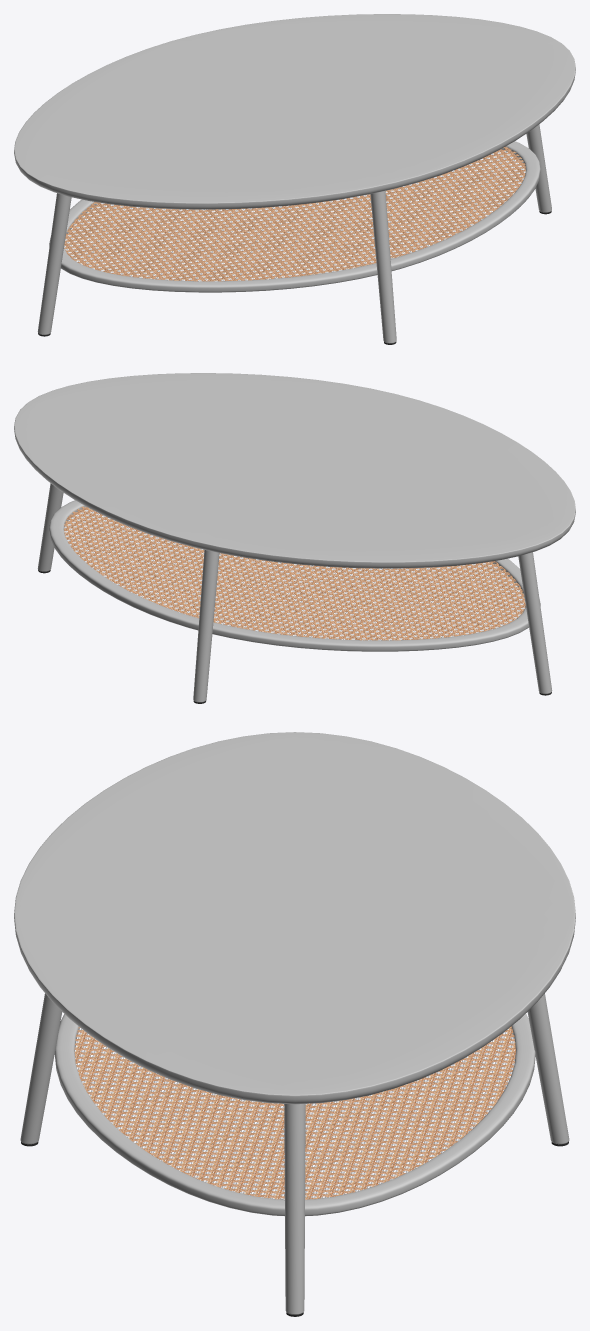
Rendered from SM_Coffe_Table_01_LP.fbx.
3 views of the same model, one above another, from view 1: azimuth 30°, elevation 25°; view 2: azimuth 150°, elevation 25°; view 3: azimuth 270°, elevation 25° (orthographic). The views are drawn at different scales.
Parts seen in each view (by area): view 1: SM_Coffe_Table_01_LP; view 2: SM_Coffe_Table_01_LP; view 3: SM_Coffe_Table_01_LP.
Boxes of the visible parts, bbox=[...] form: SM_Coffe_Table_01_LP: bbox=[14, 14, 575, 344]; SM_Coffe_Table_01_LP: bbox=[14, 373, 575, 703]; SM_Coffe_Table_01_LP: bbox=[14, 732, 575, 1316].
Size of the model in its own units: 153 by 44.99 by 100.
